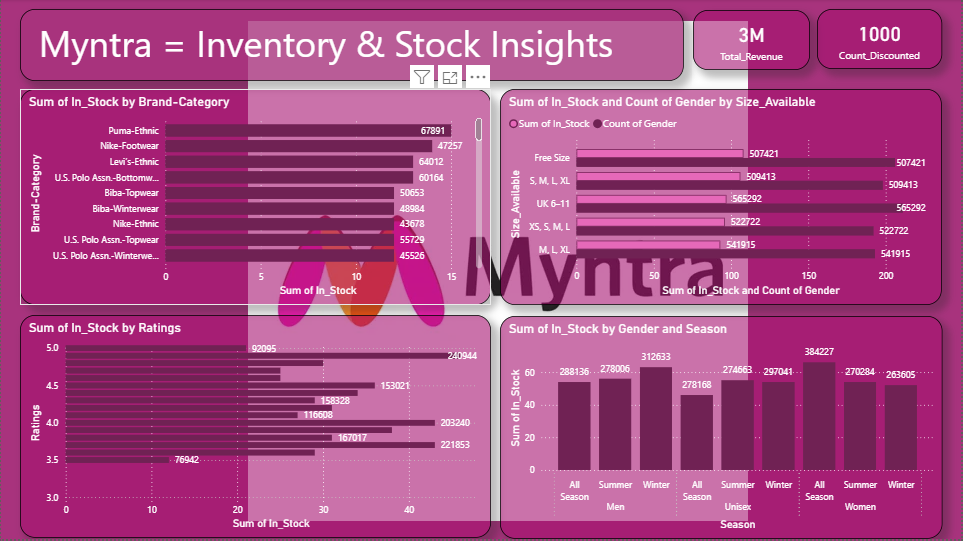

What the dashboard file says about the page in this screenshot:
{"tool":"powerbi","page":{"name":"Inventory & Stock Insights","canvas":[1280,720],"ordinal":1},"visuals":[{"type":"textbox","box":[25.3,13.3,885.3,96],"z":0},{"type":"clusteredBarChart","fields":{"Category":["Myntra_Fashion_Dataset.Brand-Category"],"Y":["Sum(Myntra_Fashion_Dataset.In_Stock)"]},"box":[25.3,120,628,288],"z":1000},{"type":"clusteredBarChart","fields":{"Category":["Myntra_Fashion_Dataset.Size_Available"],"Y":["Sum(Myntra_Fashion_Dataset.In_Stock)","CountNonNull(Myntra_Fashion_Dataset.Gender)"]},"box":[665.3,120,589.3,288],"z":2000},{"type":"clusteredBarChart","fields":{"Category":["Myntra_Fashion_Dataset.Ratings"],"Y":["Sum(Myntra_Fashion_Dataset.In_Stock)"]},"box":[25.3,421.3,628,297.3],"z":3000},{"type":"clusteredColumnChart","fields":{"Category":["Myntra_Fashion_Dataset.Gender","Myntra_Fashion_Dataset.Season"],"Y":["Sum(Myntra_Fashion_Dataset.In_Stock)"]},"box":[664.8,422.5,590.5,297.3],"z":4000},{"type":"card","fields":{"Values":["Myntra_Fashion_Dataset.Total_Revenue"]},"box":[922.7,14.7,156,80],"z":5000},{"type":"card","fields":{"Values":["Myntra_Fashion_Dataset.Count_Discounted"]},"box":[1088,13.3,166.7,80],"z":6000}]}

Visuals, with their boxes in screenshot pixels (x1, y1, x2, y2), scaled from the page's 1280x720 canvas onto the 963x541 screenshot:
textbox: box=[19, 10, 685, 82]
clusteredBarChart - Myntra_Fashion_Dataset.Brand-Category x Sum(Myntra_Fashion_Dataset.In_Stock): box=[19, 90, 492, 307]
clusteredBarChart - Myntra_Fashion_Dataset.Size_Available x Sum(Myntra_Fashion_Dataset.In_Stock): box=[501, 90, 944, 307]
clusteredBarChart - Myntra_Fashion_Dataset.Ratings x Sum(Myntra_Fashion_Dataset.In_Stock): box=[19, 317, 492, 540]
clusteredColumnChart - Myntra_Fashion_Dataset.Gender x Myntra_Fashion_Dataset.Season: box=[500, 317, 944, 540]
card - Myntra_Fashion_Dataset.Total_Revenue: box=[694, 11, 812, 71]
card - Myntra_Fashion_Dataset.Count_Discounted: box=[819, 10, 944, 70]
